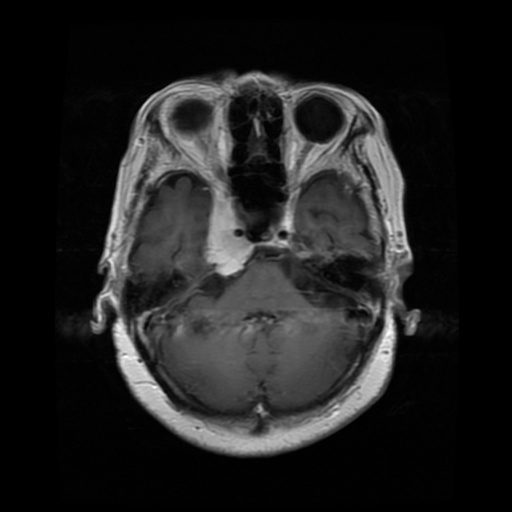meningioma: (207, 188, 254, 277)
